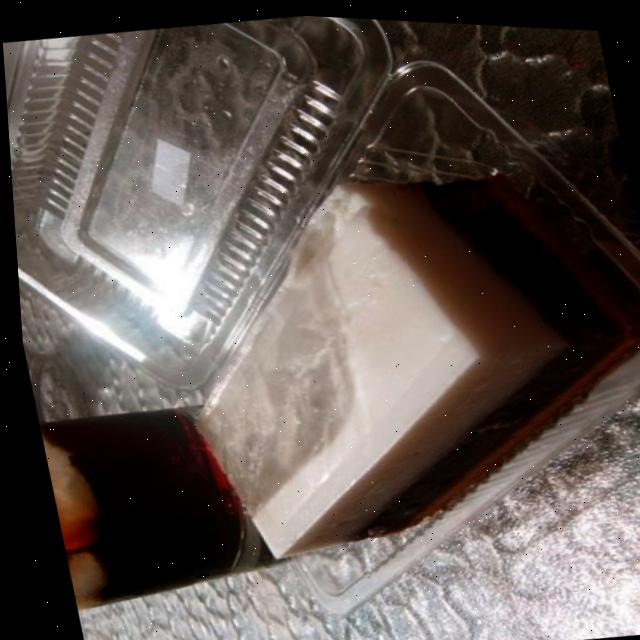蛋糕甜品: (90, 91, 640, 639)
